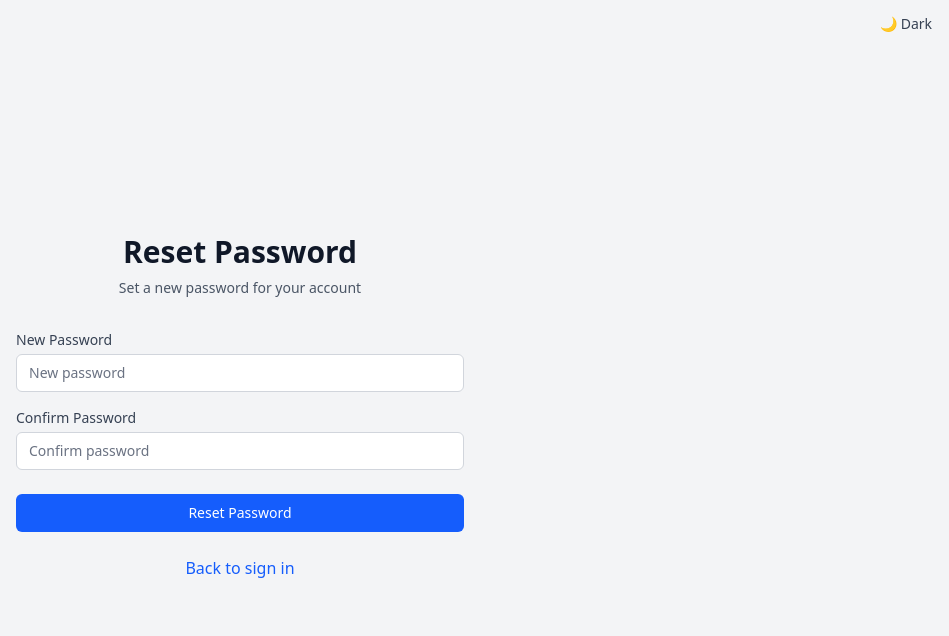
Scenario: Auth pages › submits reset password and shows success message
Type "Password1" into the password field with placeholder "New password" at (240, 373), box [16,354,464,392]
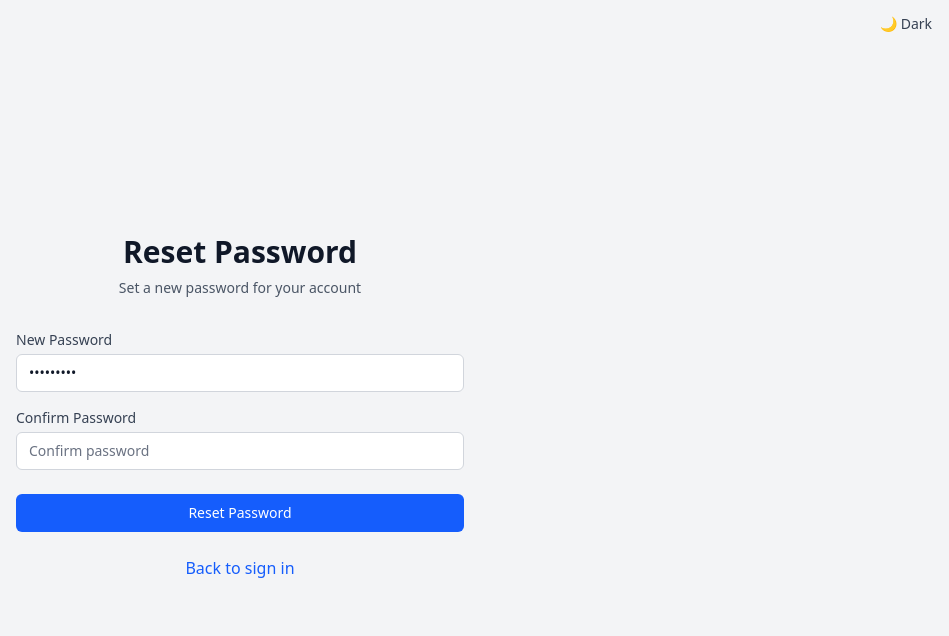
Type "Password1" into the password field with placeholder "Confirm password" at (240, 451), box [16,432,464,470]
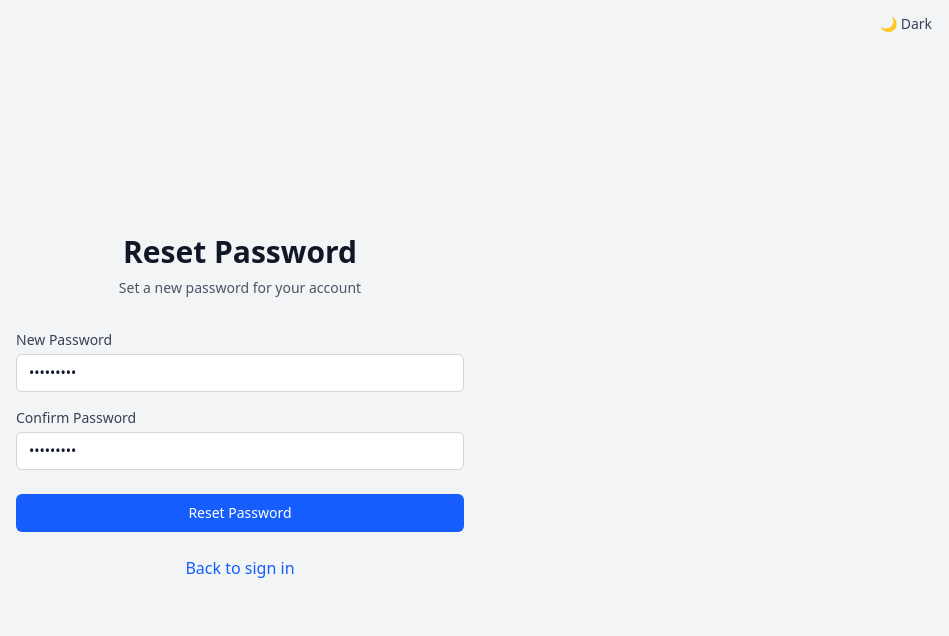
Click the button "Reset Password" at (240, 513), box [16,494,464,532]
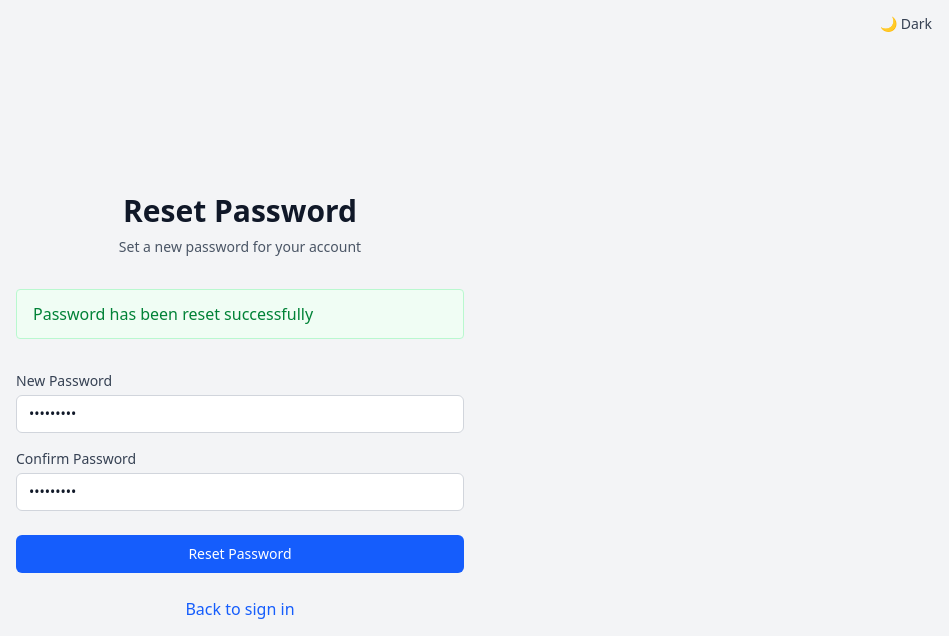
Expected: the text "Password has been reset successfully" is shown, [16,289,464,339]
